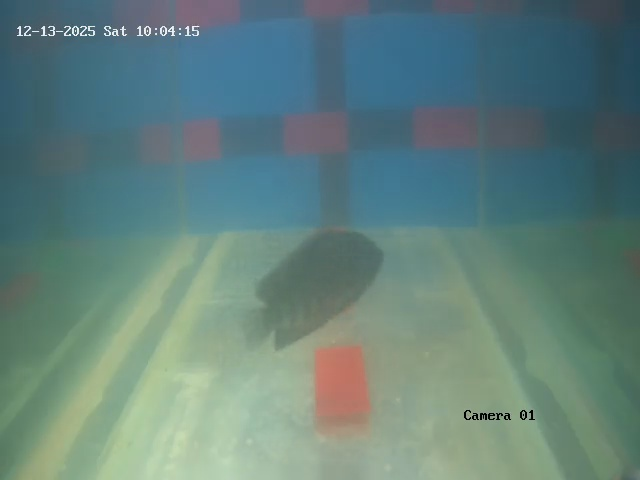fish: (255, 204, 385, 361)
